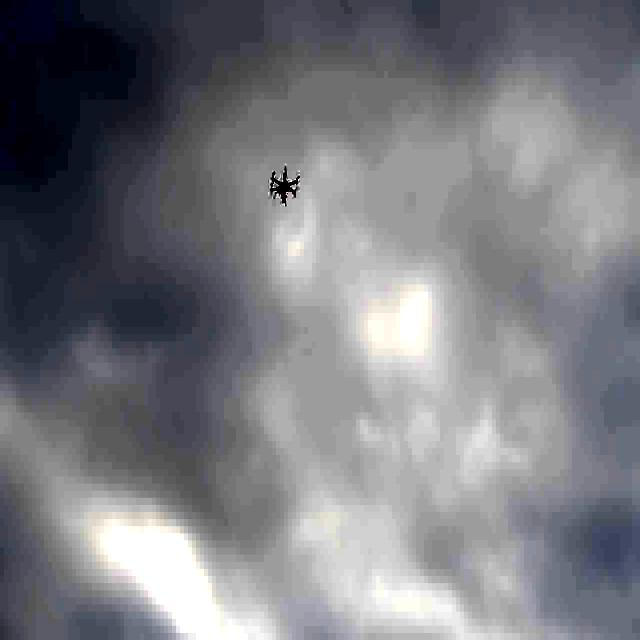drone: (266, 163, 304, 210)
